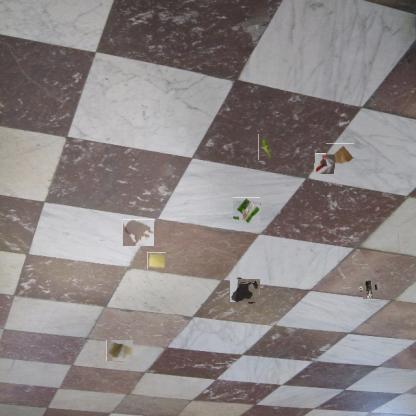dirty: (232, 197, 260, 224), (326, 143, 354, 166), (107, 338, 132, 363), (314, 154, 335, 174), (147, 252, 166, 270), (258, 134, 271, 160), (361, 280, 377, 296)
liquid: (122, 219, 154, 246), (232, 277, 259, 304)
